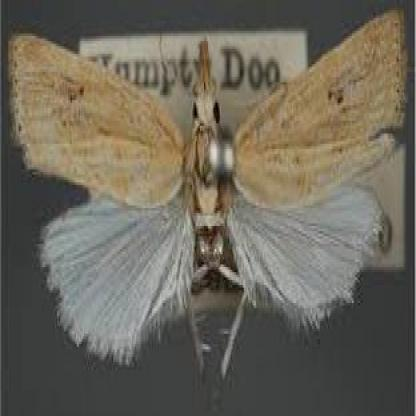stem-borer: (7, 4, 411, 389)
